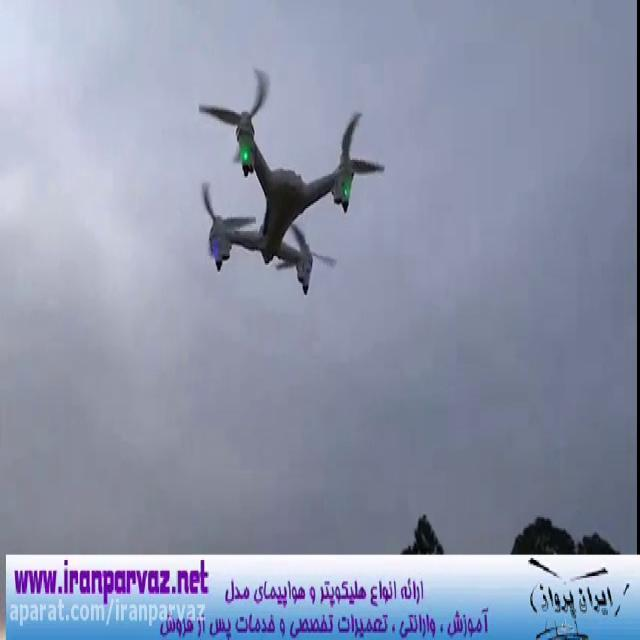drone: (191, 61, 389, 299)
